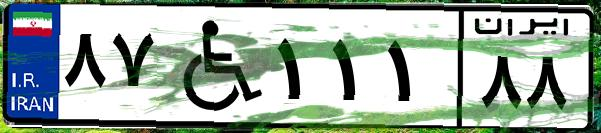1: (270, 28, 330, 110), (385, 28, 445, 110), (330, 28, 385, 110)
7: (110, 28, 158, 98)
8: (57, 26, 110, 100), (475, 38, 525, 113), (525, 38, 570, 115)
ژ (معلولین و جانبازان): (158, 12, 270, 120)
